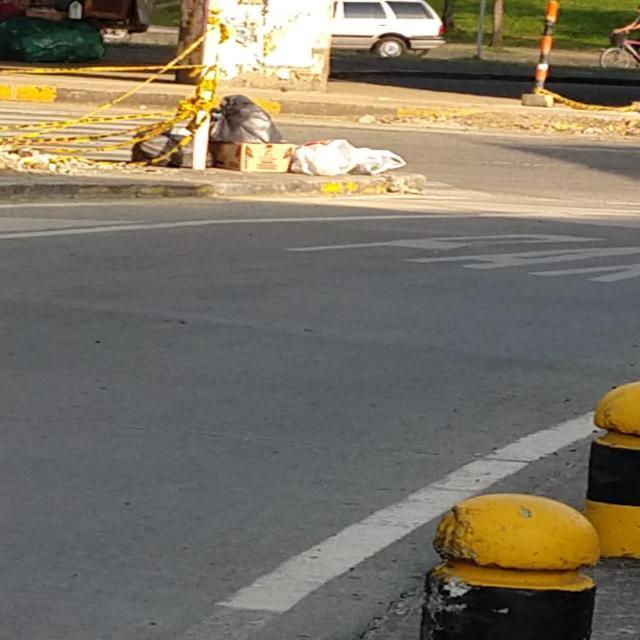Trashbag: (210, 97, 280, 149)
